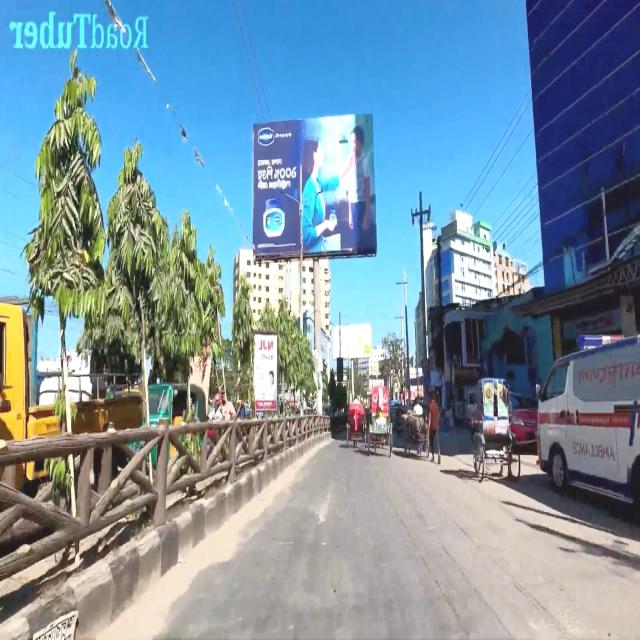red: (511, 387, 536, 448)
